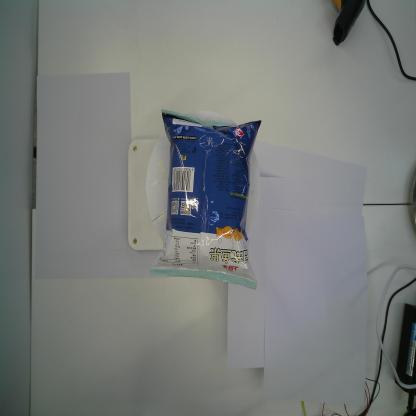Puffed Food: (148, 107, 263, 290)
